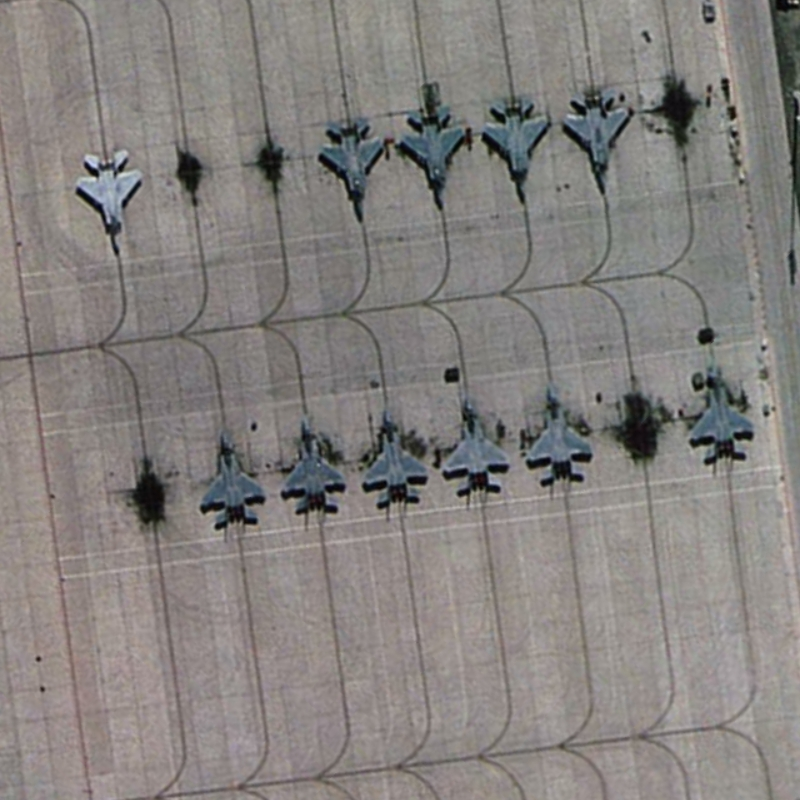A13: (304, 104, 395, 234), (470, 85, 560, 210), (188, 414, 275, 543), (391, 93, 474, 217), (520, 375, 604, 490), (72, 144, 149, 269), (558, 78, 636, 201), (431, 388, 510, 500), (681, 357, 759, 470), (356, 398, 431, 511), (278, 410, 355, 520)
